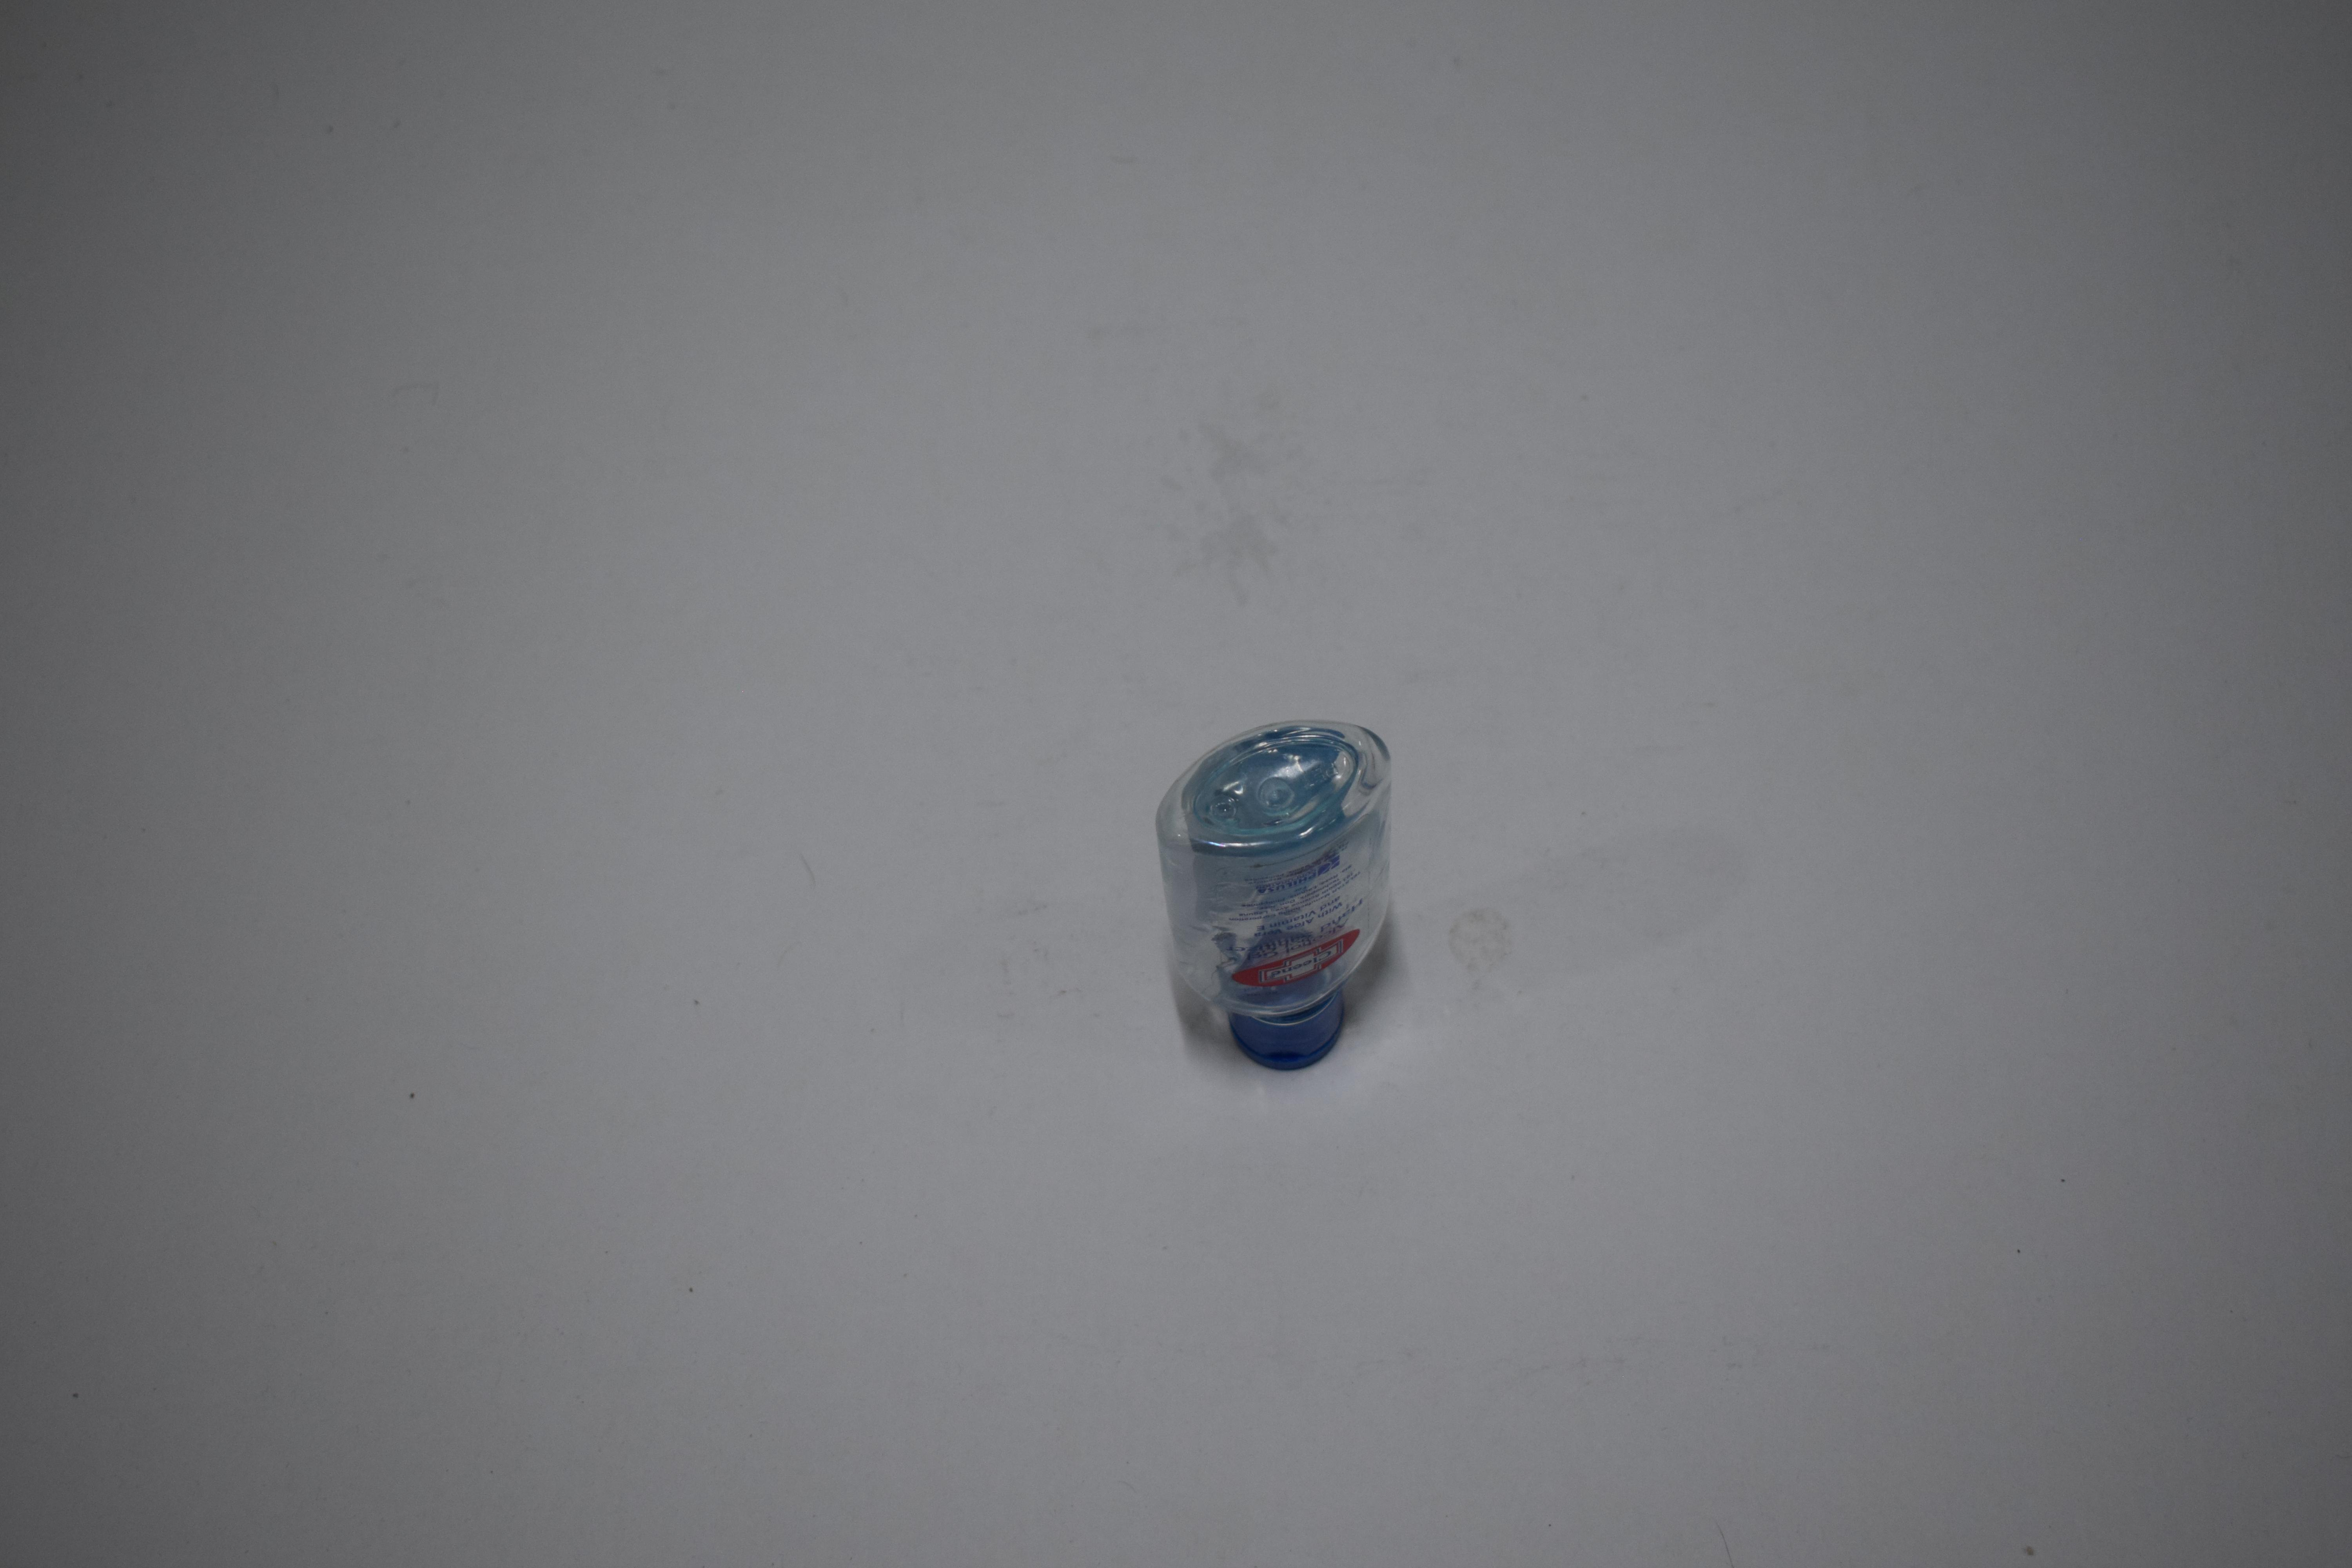bottle: (0, 0, 224, 294)
